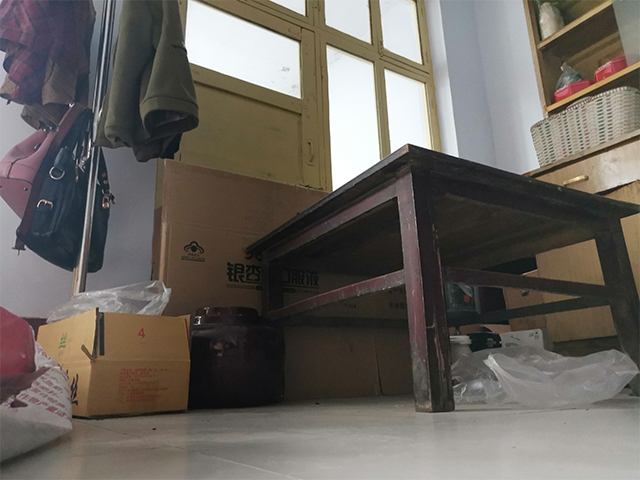table: (241, 141, 639, 417)
